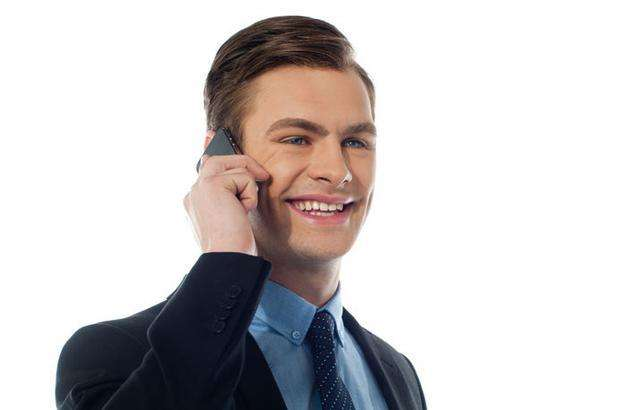calling: (179, 124, 272, 252)
